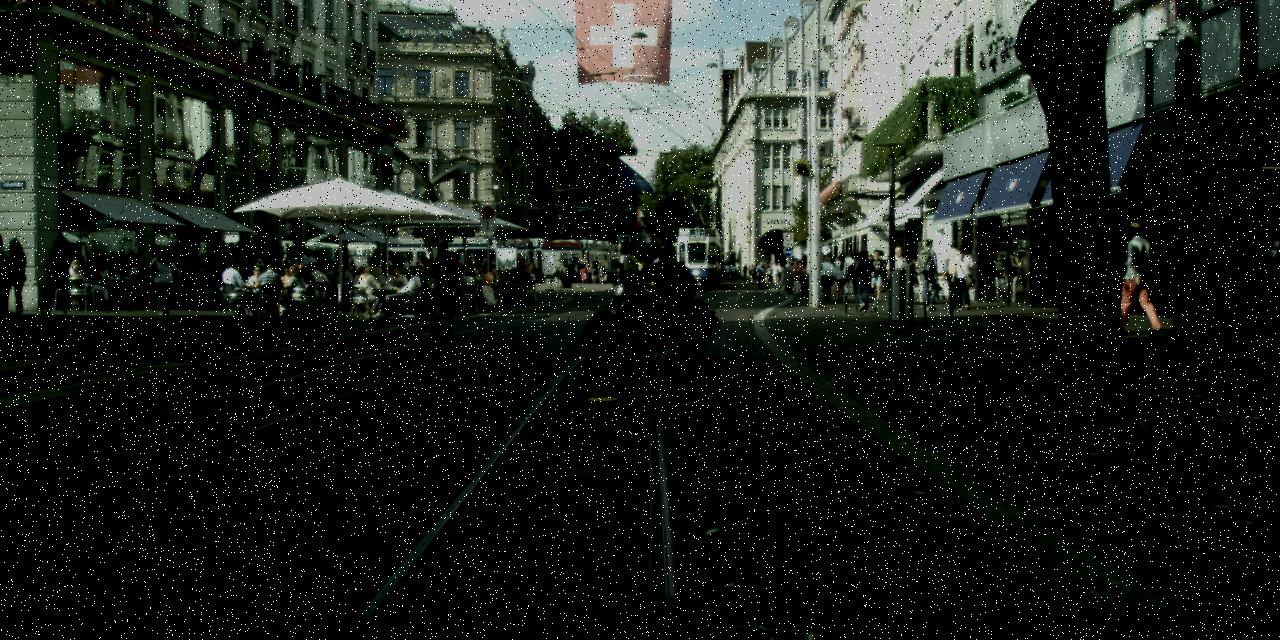ped: (1222, 210, 1279, 350), (1170, 214, 1226, 350), (1112, 220, 1159, 334), (638, 241, 680, 343), (421, 239, 461, 337), (608, 239, 646, 329), (344, 247, 382, 317), (42, 238, 73, 315), (0, 237, 29, 314), (914, 238, 942, 308), (151, 246, 179, 313), (940, 239, 966, 304), (950, 244, 976, 309), (228, 239, 253, 299), (886, 246, 910, 305), (850, 252, 874, 310), (864, 249, 884, 299), (280, 250, 300, 296), (830, 253, 849, 301), (304, 251, 324, 296), (914, 254, 932, 300), (400, 253, 418, 298), (818, 256, 836, 300), (382, 250, 400, 294), (367, 248, 384, 293), (796, 253, 812, 296), (841, 252, 857, 293), (851, 256, 866, 295), (321, 249, 338, 282), (861, 254, 876, 290), (478, 255, 492, 290), (786, 262, 799, 292), (777, 260, 789, 292), (786, 259, 798, 289), (755, 260, 766, 288), (554, 258, 564, 288), (589, 256, 599, 282), (580, 257, 590, 282), (566, 260, 576, 282), (526, 262, 536, 284), (770, 262, 779, 284), (596, 263, 604, 283), (748, 262, 756, 282), (766, 262, 774, 282), (722, 262, 729, 280), (730, 264, 736, 280), (742, 263, 748, 279), (363, 322, 374, 324)
